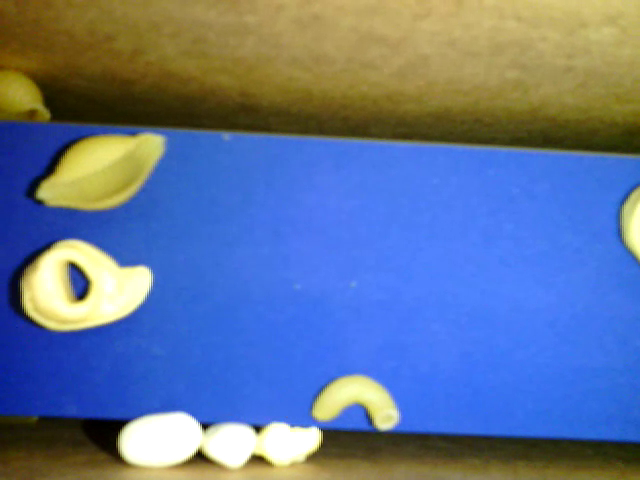elbow: (310, 369, 402, 433)
shell: (32, 132, 168, 213), (1, 68, 54, 123)
tortellini: (15, 234, 154, 331)
